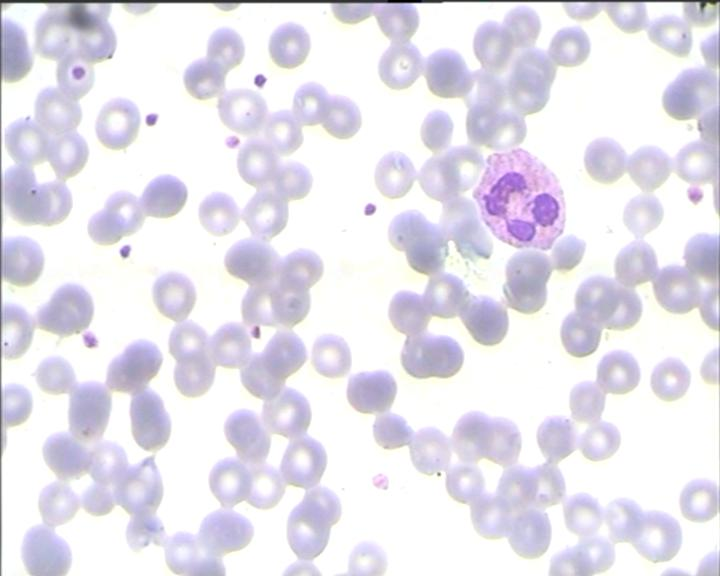neut: (470, 146, 565, 251)
